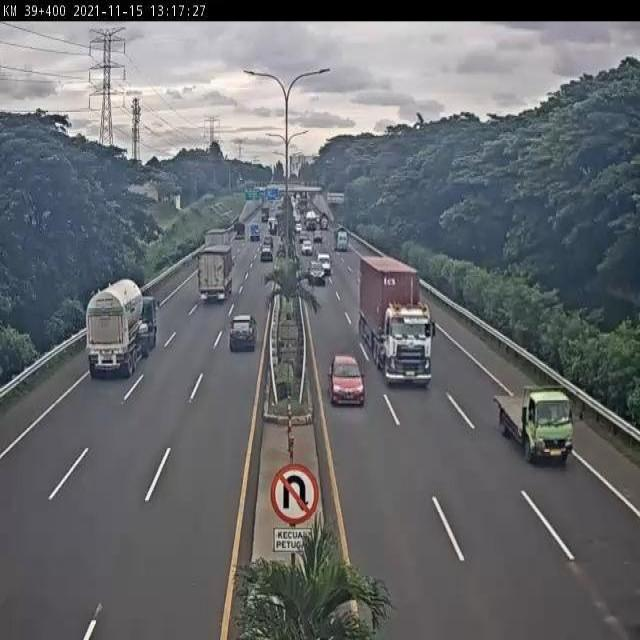Car: (326, 352, 368, 408), (228, 315, 259, 355), (306, 260, 326, 286), (260, 244, 274, 262)
Truck: (358, 255, 431, 385), (85, 278, 162, 380), (492, 385, 575, 467), (197, 239, 235, 302), (305, 210, 318, 231), (336, 229, 348, 251), (233, 221, 246, 240), (250, 223, 260, 241), (261, 207, 269, 223)
